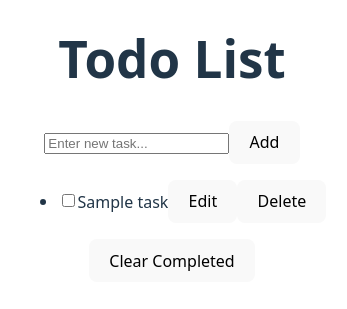
Test case: после ввода текста и нажатия "Add" появляется новая задача с нужным текстом
Type "Новая задача 123" into the field with placeholder "Enter new task..." at (137, 144), box x1=44 y1=133 x2=229 y2=154
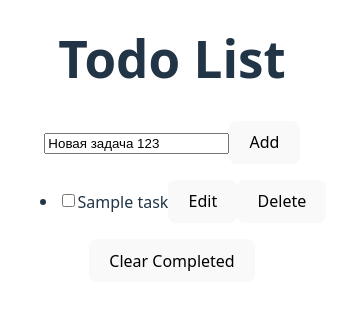
Click the button "Add" at (264, 142), box x1=229 y1=121 x2=300 y2=164
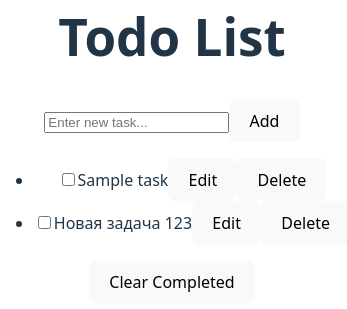
Expected: the text "Новая задача 123" is shown, x1=54 y1=212 x2=192 y2=234
